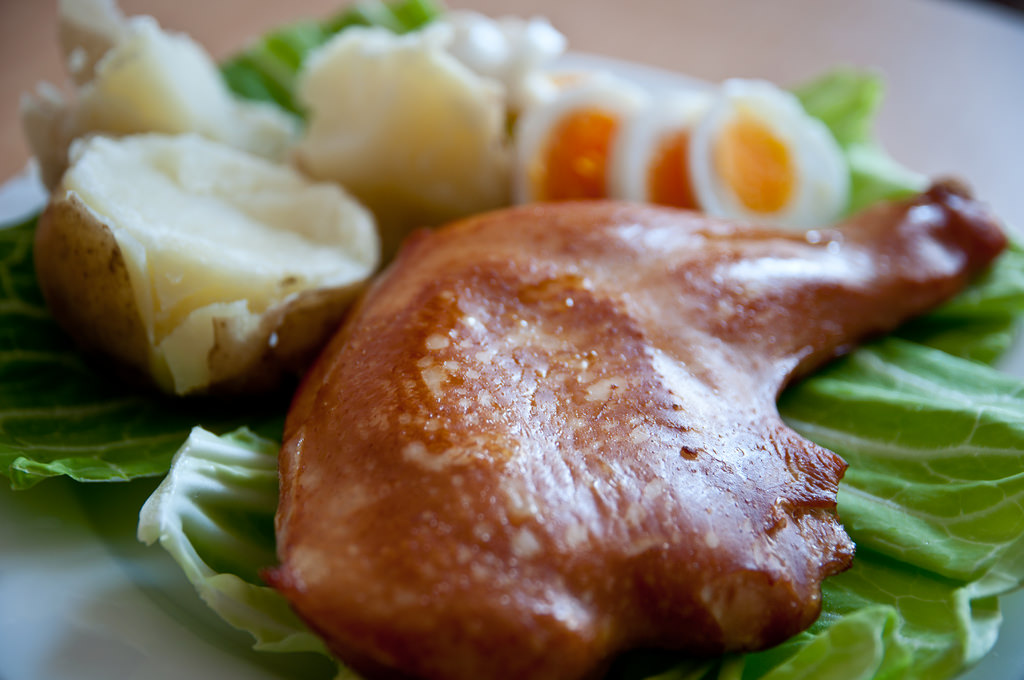boiled potatoes: (30, 115, 383, 403)
